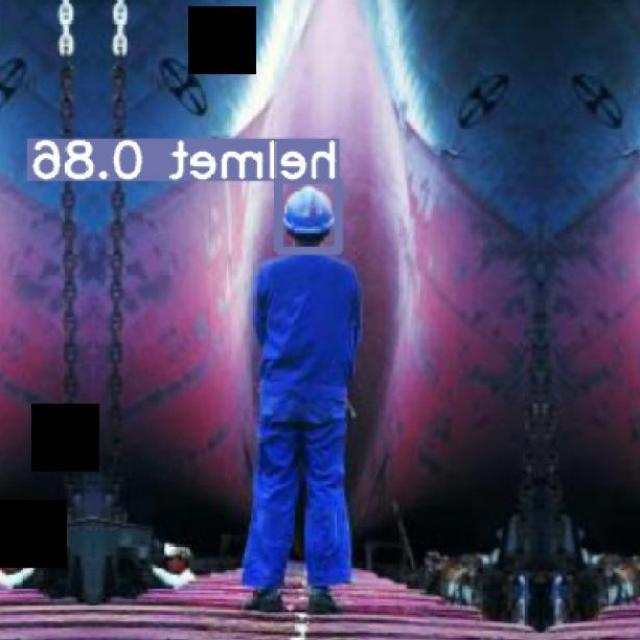helmet: (283, 185, 336, 234)
